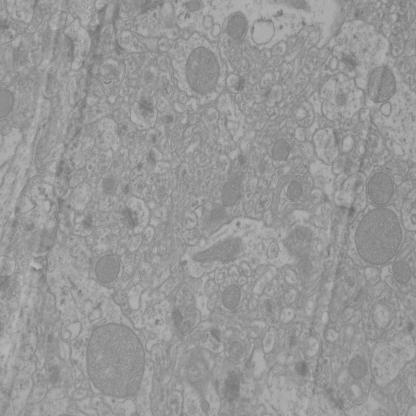mitochondria: (85, 322, 146, 398), (354, 207, 403, 266), (184, 46, 221, 94), (191, 237, 245, 263), (282, 224, 314, 260), (368, 66, 396, 104), (367, 172, 395, 206), (95, 253, 122, 285), (219, 180, 242, 207), (226, 13, 247, 39), (222, 284, 242, 311), (349, 354, 368, 381), (393, 260, 412, 286), (272, 139, 292, 162), (285, 179, 303, 202), (207, 205, 226, 223)
